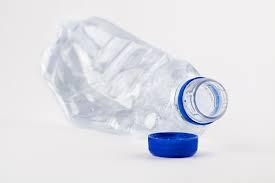plastic: (41, 17, 219, 134)
